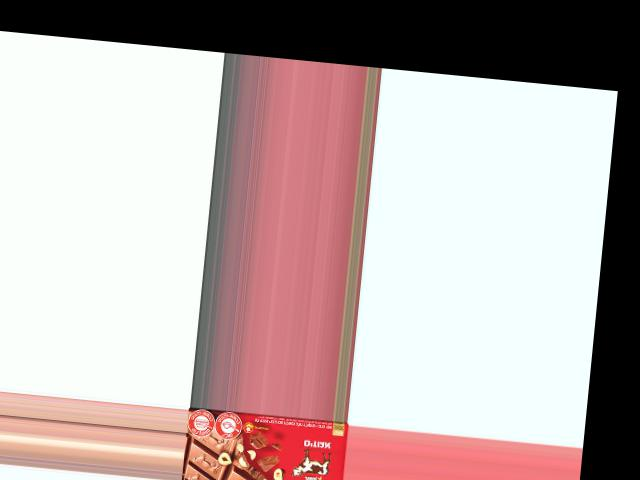chocolate: (182, 409, 349, 480)
